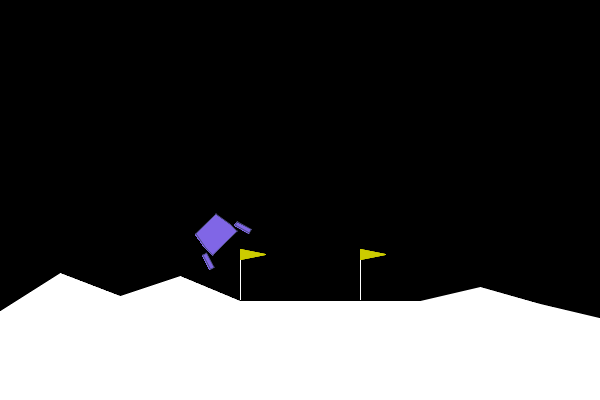lander: (182, 202, 253, 272)
